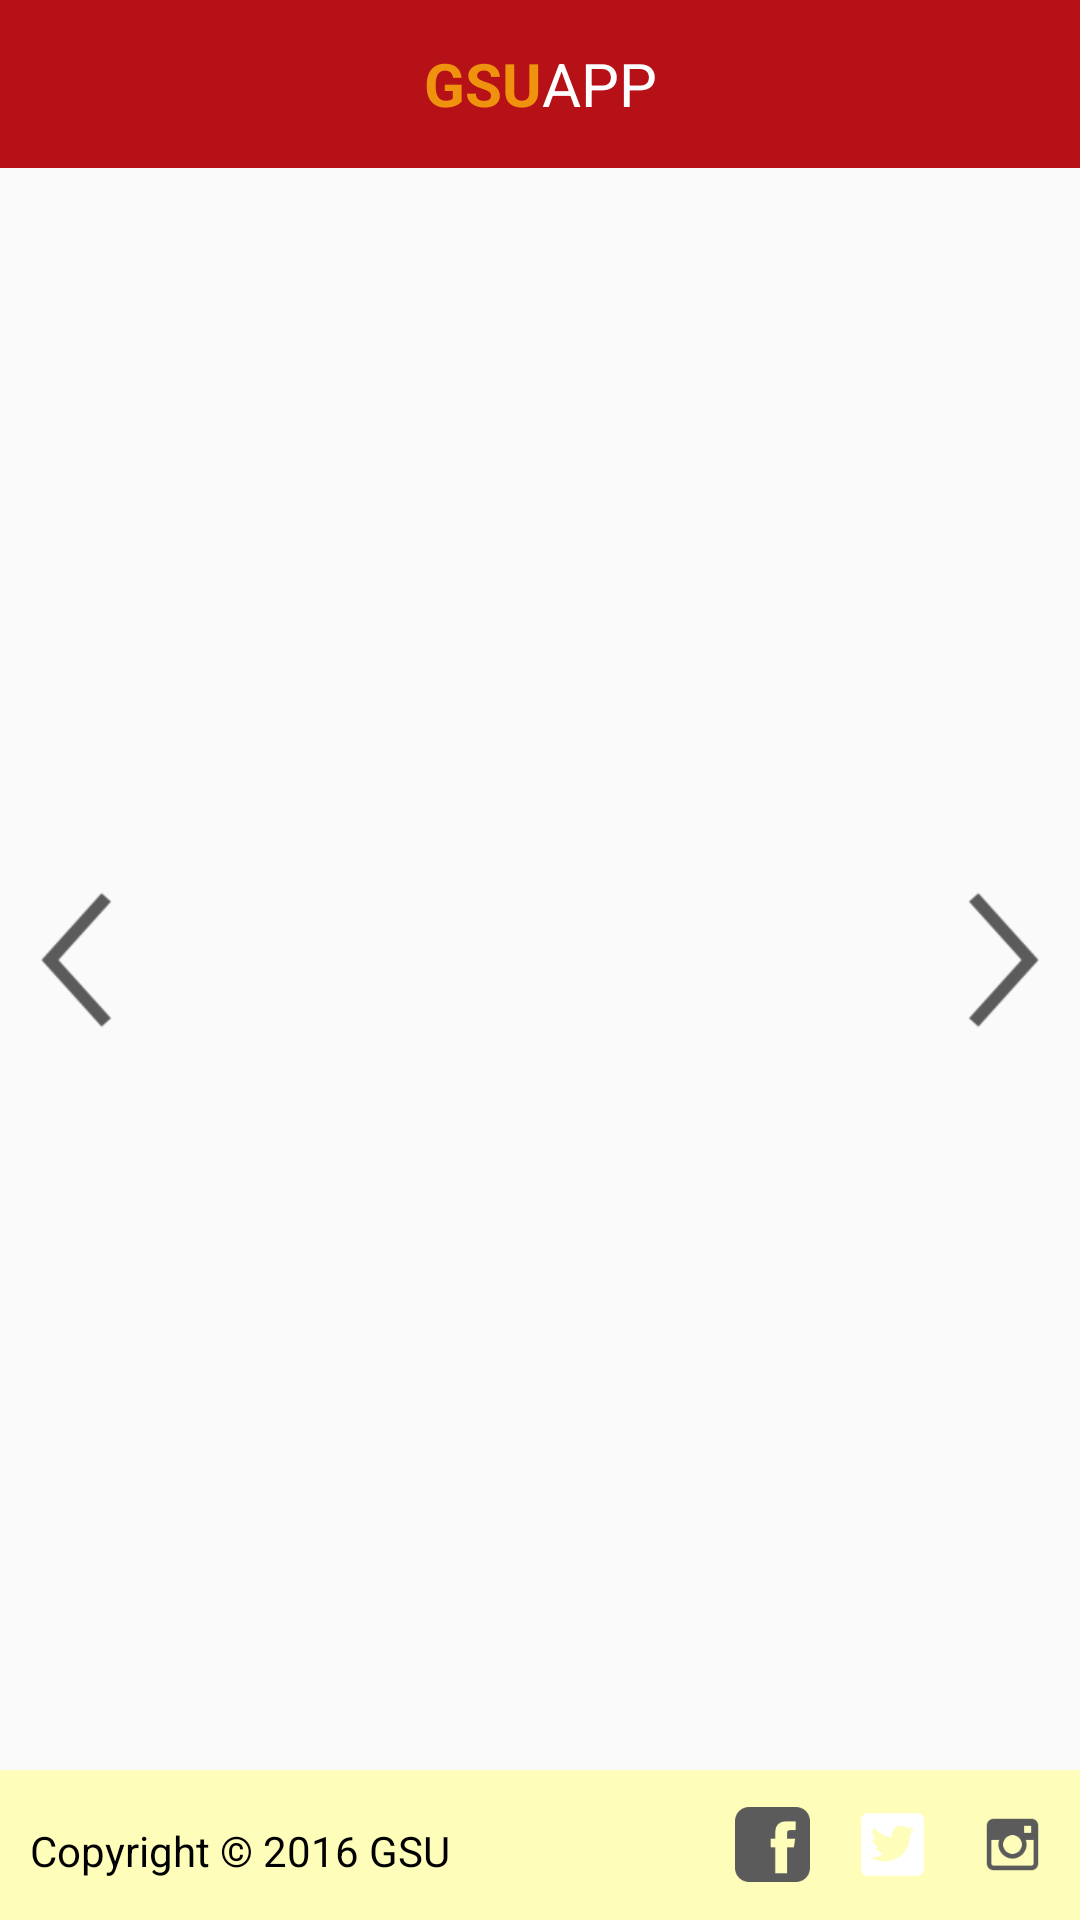

Named icons in this screenshot (1080px x 1920px) and their centers, (x=x, y=y):
next: (x=1003, y=960)
previous: (x=76, y=960)
